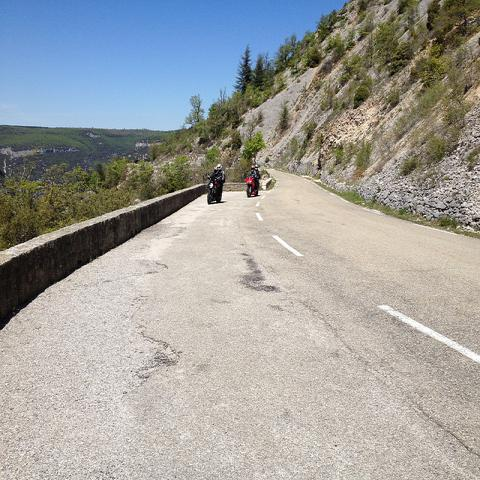motorcycle: (207, 175, 220, 204), (246, 176, 259, 196), (250, 175, 259, 197)
